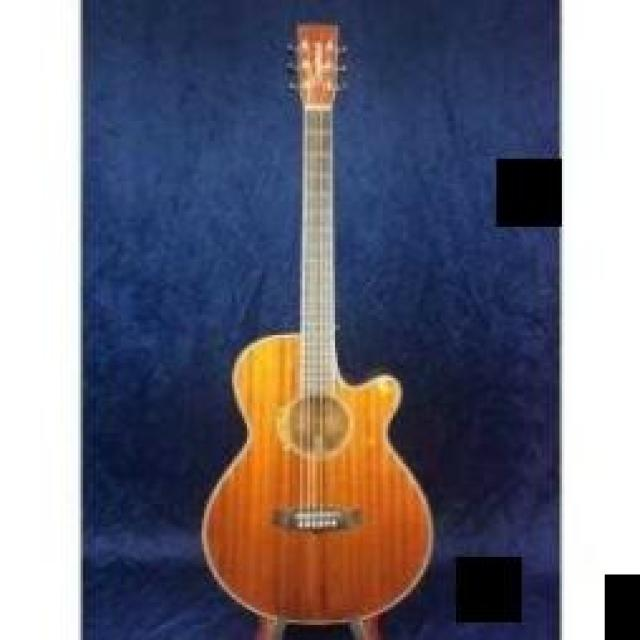acousticguitar: (202, 23, 431, 637)
